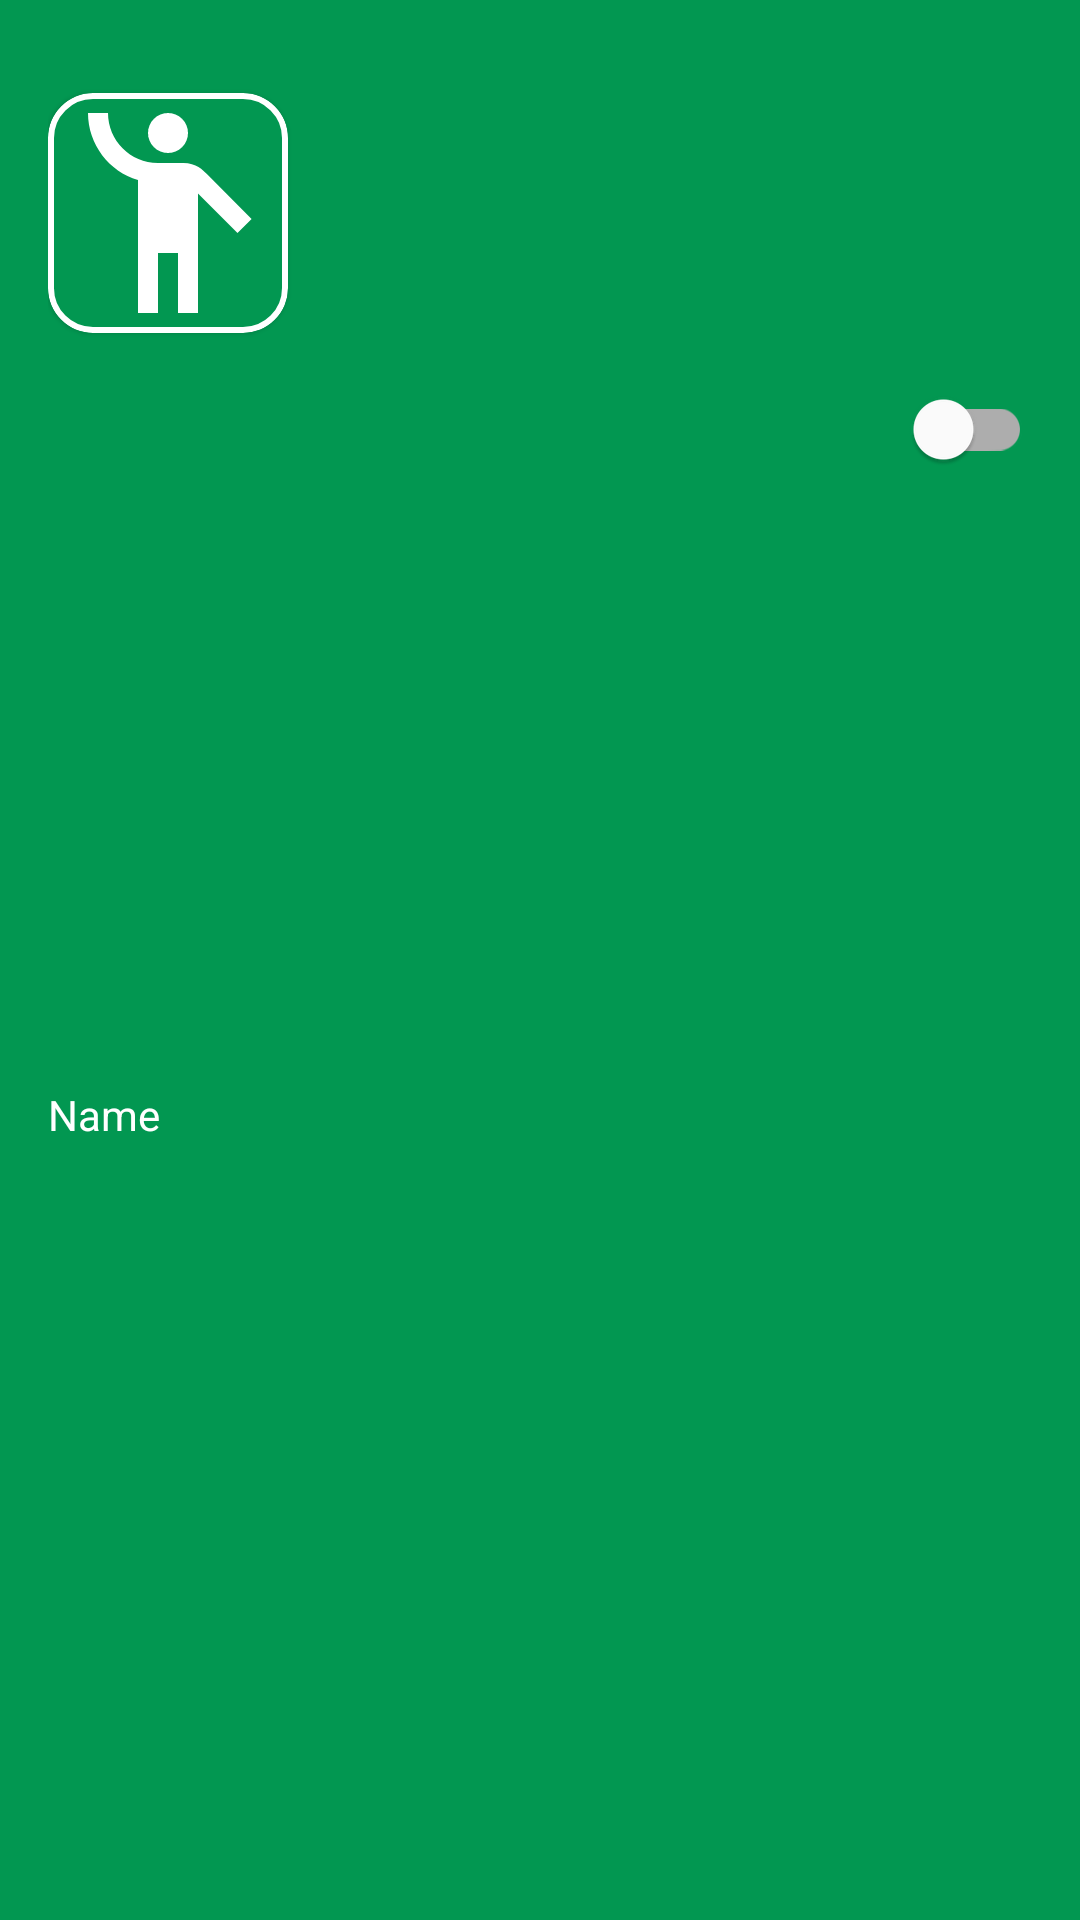

Named icons in this screenshot (1080 × 1920) and their centers, (x=x, y=y):
people: (x=168, y=213)
